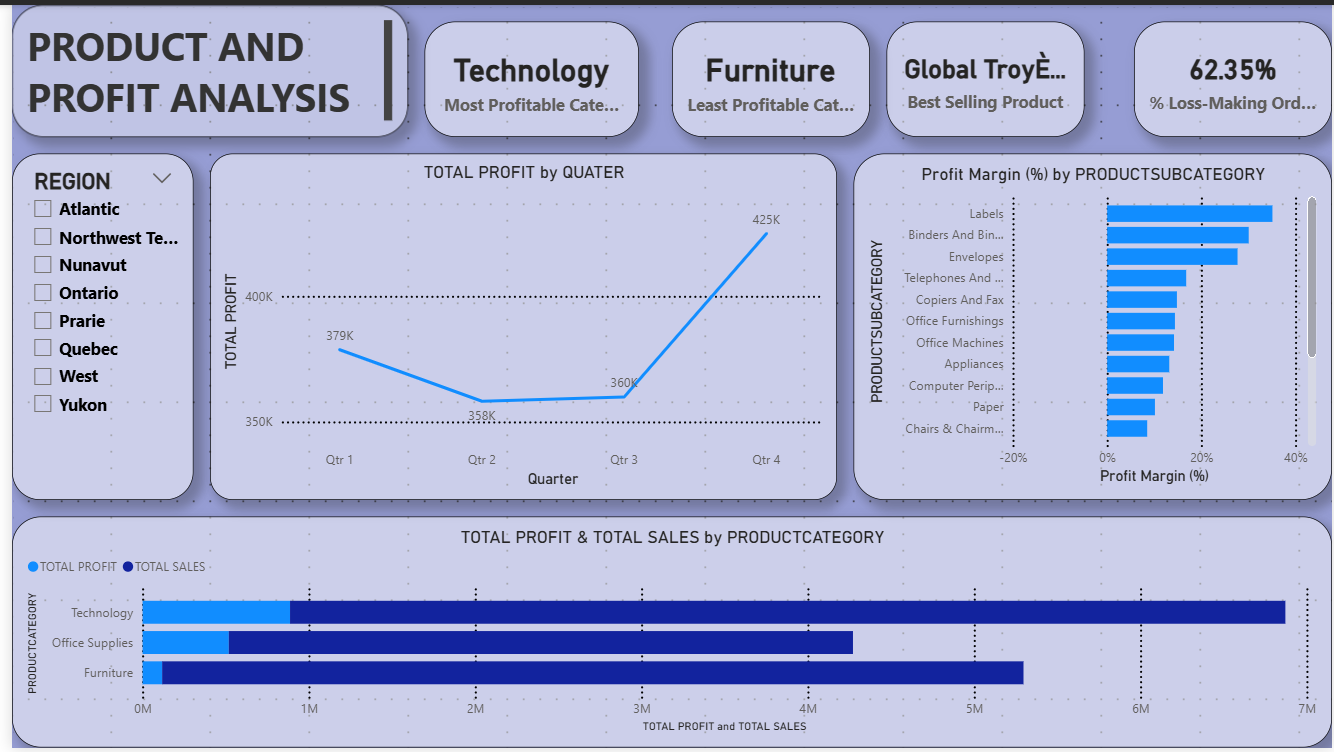

The dashboard page shown, as its layout file describes it:
{"tool":"powerbi","page":{"name":"Product  and Profit Analysis","canvas":[1280,720],"ordinal":2},"visuals":[{"type":"card","fields":{"Values":["Cleaned_Online_Dataset.Best Selling Product"]},"box":[848,16,192,112],"z":0},{"type":"card","fields":{"Values":["Cleaned_Online_Dataset.Least Profitable Category"]},"box":[640,16,192,112],"z":1},{"type":"card","fields":{"Values":["Cleaned_Online_Dataset.Most Profitable Category"]},"box":[400,16,208,112],"z":2},{"type":"card","fields":{"Values":["Cleaned_Online_Dataset.% Loss-Making Orders"]},"box":[1088,16,192,112],"z":3},{"type":"barChart","title":"TOTAL PROFIT & TOTAL SALES by PRODUCTCATEGORY","fields":{"Category":["Cleaned_Online_Dataset.PRODUCTCATEGORY"],"Y":["Cleaned_Online_Dataset.TOTAL PROFIT","Cleaned_Online_Dataset.TOTAL SALES"]},"box":[0,496,1280,224],"z":4},{"type":"barChart","fields":{"Category":["Cleaned_Online_Dataset.PRODUCTSUBCATEGORY"],"Y":["Cleaned_Online_Dataset.Profit Margin (%)"]},"box":[816,144,464,336],"z":5},{"type":"lineChart","title":"TOTAL PROFIT by QUATER","fields":{"Category":["Cleaned_Online_Dataset.ORDERDATE.Variation.Date Hierarchy.Quarter","Cleaned_Online_Dataset.ORDERDATE.Variation.Date Hierarchy.Month","Cleaned_Online_Dataset.ORDERDATE.Variation.Date Hierarchy.Day"],"Y":["Cleaned_Online_Dataset.TOTAL PROFIT"]},"box":[192,144,608,336],"z":6},{"type":"textbox","box":[0,0,384,128],"z":7},{"type":"slicer","fields":{"Values":["Cleaned_Online_Dataset.REGION"]},"box":[0,144,176,336],"z":8}]}

Visuals, with their boxes in screenshot pixels (x1, y1, x2, y2), scaled from the page's 1280x720 canvas onto the 1334x752 screenshot:
card - Cleaned_Online_Dataset.Best Selling Product: 884,17,1084,134
card - Cleaned_Online_Dataset.Least Profitable Category: 667,17,867,134
card - Cleaned_Online_Dataset.Most Profitable Category: 417,17,634,134
card - Cleaned_Online_Dataset.% Loss-Making Orders: 1134,17,1333,134
"TOTAL PROFIT & TOTAL SALES by PRODUCTCATEGORY" barChart: 0,518,1333,751
barChart - Cleaned_Online_Dataset.PRODUCTSUBCATEGORY x Cleaned_Online_Dataset.Profit Margin (%): 850,150,1333,501
"TOTAL PROFIT by QUATER" lineChart: 200,150,834,501
textbox: 0,0,400,134
slicer - Cleaned_Online_Dataset.REGION: 0,150,183,501
